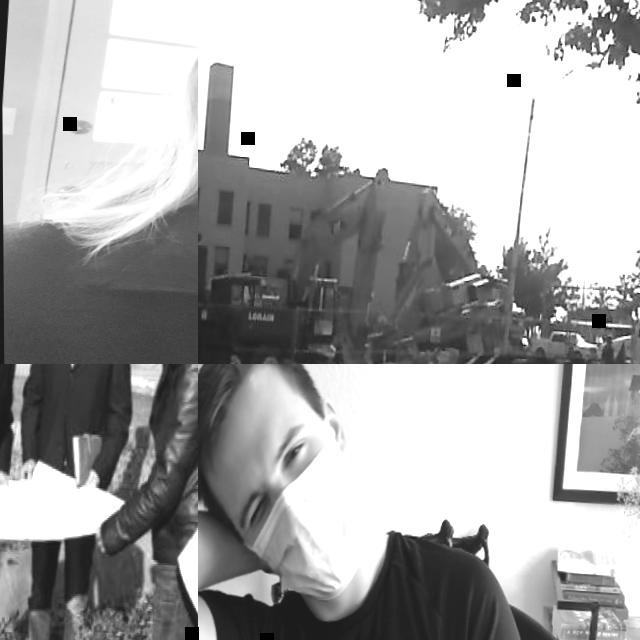Hardhat: (198, 364, 271, 507)
Mask: (235, 410, 371, 606)
NO-Hardhat: (604, 335, 611, 341)
NO-Safety Vest: (2, 191, 198, 364), (220, 523, 490, 640), (32, 364, 121, 475), (147, 364, 198, 553)
Person: (198, 364, 584, 640), (0, 0, 198, 364), (0, 364, 147, 640), (79, 364, 198, 640), (600, 334, 614, 364)
Safety Cone: (566, 337, 577, 360), (616, 341, 626, 364)
machinery: (258, 159, 394, 364), (389, 183, 537, 364)
vehicle: (528, 328, 599, 364)
